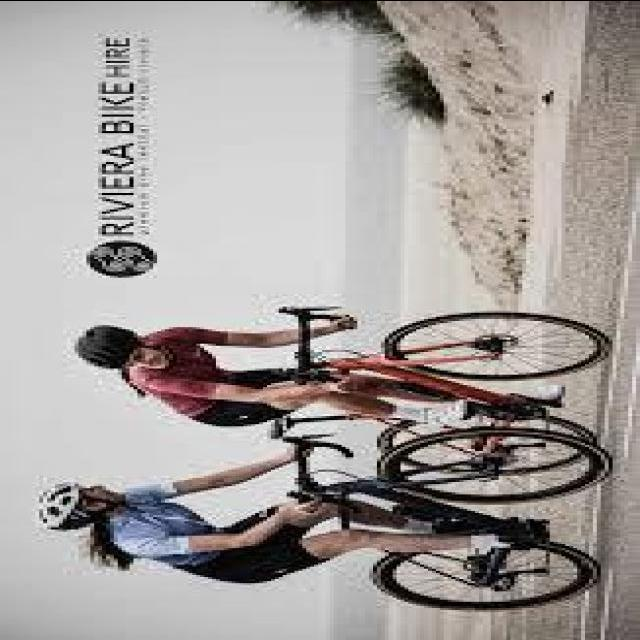bicycle: (284, 426, 610, 610), (268, 308, 614, 465)
